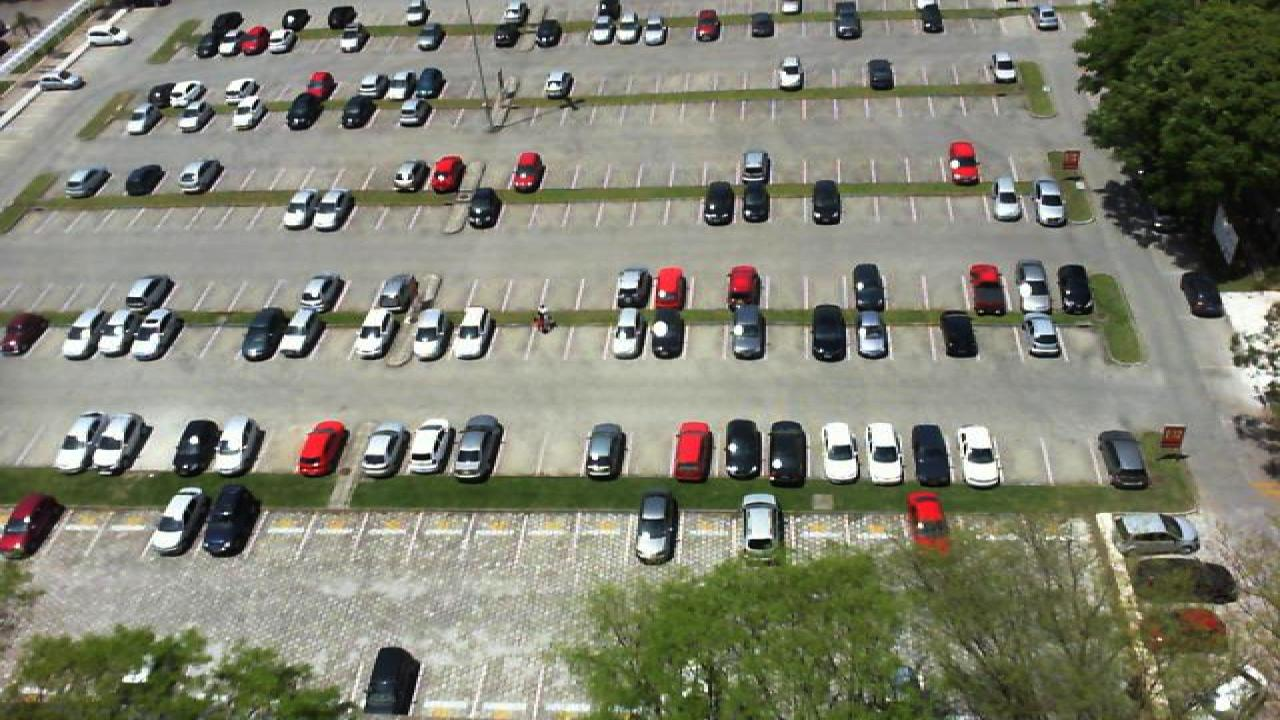Car: (146, 486, 210, 555), (362, 646, 420, 720), (0, 492, 64, 558), (1112, 512, 1202, 557), (202, 484, 258, 556), (54, 411, 116, 472), (450, 414, 502, 479), (116, 306, 178, 359), (632, 490, 676, 564), (1096, 430, 1152, 488), (908, 423, 956, 488), (956, 424, 1004, 488), (60, 309, 120, 360), (98, 414, 148, 475), (406, 420, 458, 477), (818, 421, 864, 485), (864, 422, 910, 486), (214, 415, 262, 475), (740, 493, 782, 561), (904, 490, 950, 552), (296, 420, 346, 477), (722, 419, 766, 482), (766, 420, 808, 486), (174, 417, 220, 477), (238, 306, 288, 361), (670, 420, 714, 482), (358, 425, 408, 479), (582, 423, 628, 479), (448, 305, 494, 361), (352, 306, 398, 361), (284, 306, 330, 360), (408, 306, 452, 360), (966, 262, 1008, 316), (1014, 260, 1056, 314), (726, 308, 768, 360), (808, 304, 846, 361), (1056, 262, 1096, 316), (608, 308, 648, 361), (850, 262, 890, 315), (0, 312, 46, 358), (938, 309, 980, 359), (852, 308, 892, 360), (1182, 269, 1224, 318), (1022, 312, 1066, 358), (648, 309, 688, 359), (724, 264, 762, 314), (376, 273, 420, 315), (126, 276, 174, 314), (1032, 178, 1070, 226), (174, 158, 224, 194), (298, 275, 342, 315), (280, 189, 320, 232), (700, 179, 736, 226), (808, 179, 844, 226), (946, 140, 982, 187), (314, 189, 354, 231), (614, 268, 652, 312), (508, 150, 546, 194), (464, 186, 502, 229), (654, 267, 688, 315), (60, 166, 110, 198), (990, 176, 1024, 222), (738, 150, 772, 194), (428, 155, 464, 196), (120, 163, 164, 196), (740, 180, 772, 225), (280, 94, 320, 130), (388, 160, 430, 192), (124, 102, 162, 135), (338, 99, 378, 129), (396, 96, 434, 127), (912, 0, 946, 34), (230, 101, 266, 133), (194, 29, 230, 61), (832, 0, 862, 38), (362, 72, 402, 100), (176, 101, 210, 133), (410, 68, 444, 100), (776, 55, 806, 90), (692, 8, 722, 43), (224, 80, 264, 106), (988, 52, 1020, 84), (1030, 0, 1062, 32), (542, 70, 576, 100), (638, 12, 668, 45), (234, 26, 268, 55), (304, 71, 336, 101), (866, 59, 896, 91), (586, 13, 616, 45), (148, 82, 182, 110), (266, 27, 300, 55), (492, 22, 526, 50), (750, 5, 778, 38), (336, 25, 368, 53), (414, 24, 446, 52), (38, 71, 84, 90), (534, 18, 562, 48), (172, 82, 206, 106), (86, 28, 128, 47), (614, 15, 640, 45)
